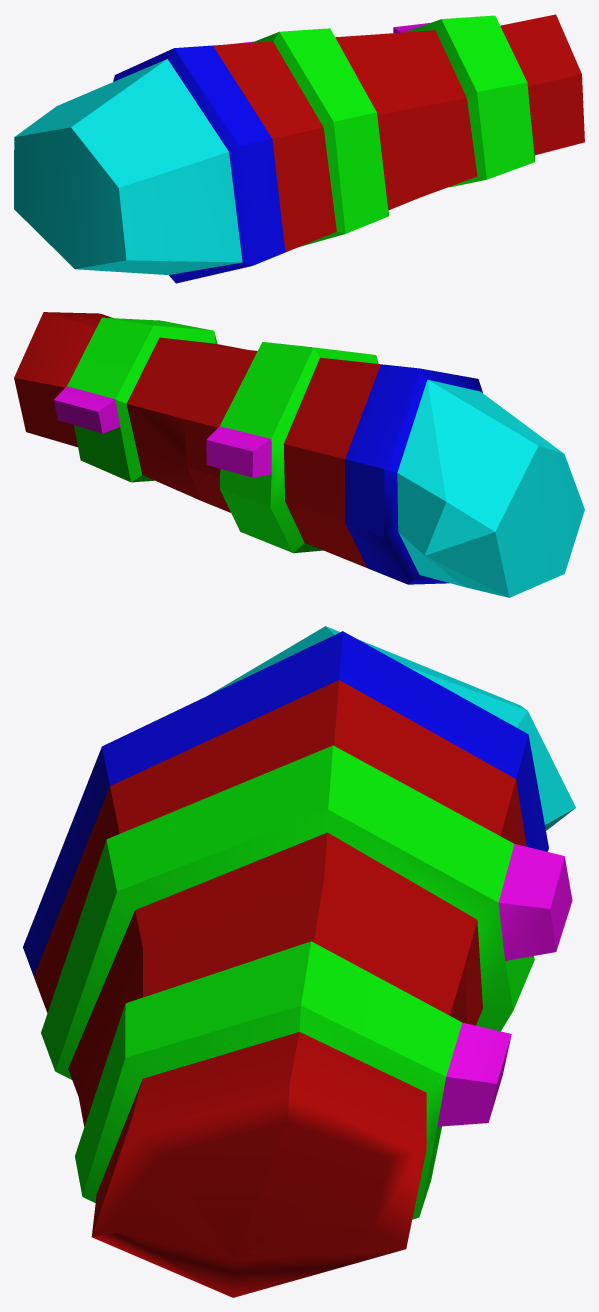
Rendered from Chr_ArmLowerLeft_Male_Static_14.fbx.
The picture shows the model from 3 angles, top to bottom: view 1: azimuth 30°, elevation 25°; view 2: azimuth 150°, elevation 25°; view 3: azimuth 270°, elevation 25°; orthographic projection. The views are drawn at different scales.
Visible parts, largest first — view 1: Chr_ArmLowerLeft_Male_14; view 2: Chr_ArmLowerLeft_Male_14; view 3: Chr_ArmLowerLeft_Male_14.
Boxes of the visible parts, <box> form: Chr_ArmLowerLeft_Male_14: <box>14,14,584,283</box>; Chr_ArmLowerLeft_Male_14: <box>14,312,584,597</box>; Chr_ArmLowerLeft_Male_14: <box>23,626,575,1297</box>.
Bounding box in the file's own units: 28.96 × 11.99 × 14.06.
